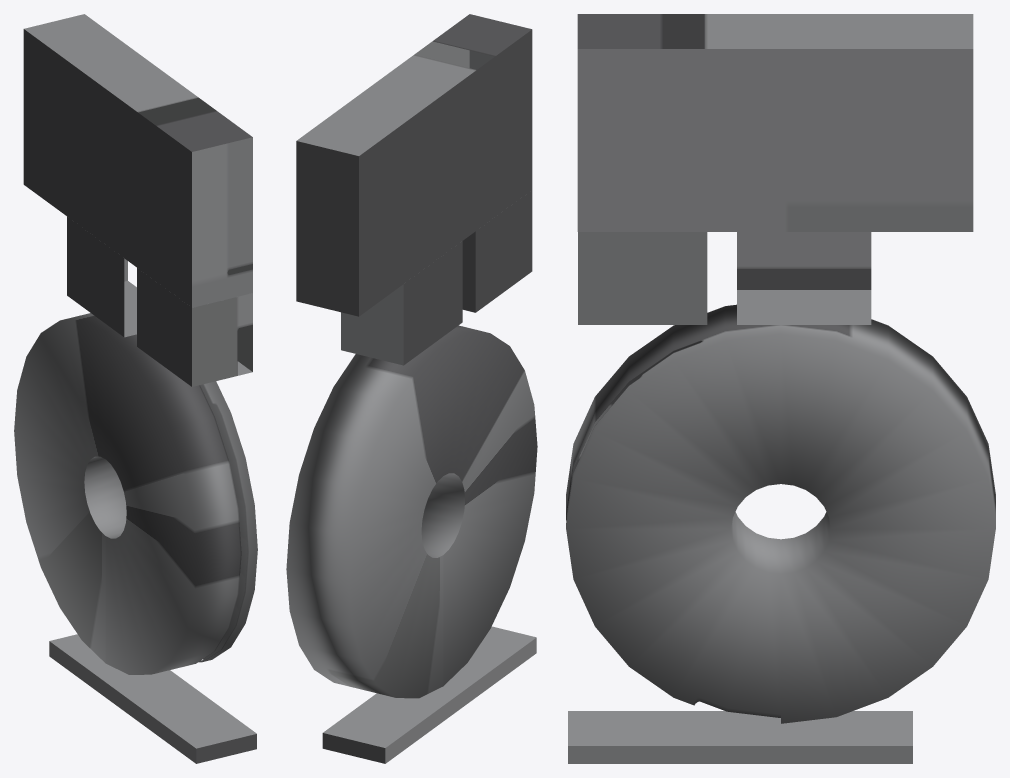
3 views of the same model, side by side, from view 1: azimuth 30°, elevation 25°; view 2: azimuth 150°, elevation 25°; view 3: azimuth 270°, elevation 25° (orthographic). The views are drawn at different scales.
Size of the model in its own units: 0.083 by 0.7931 by 0.432.
